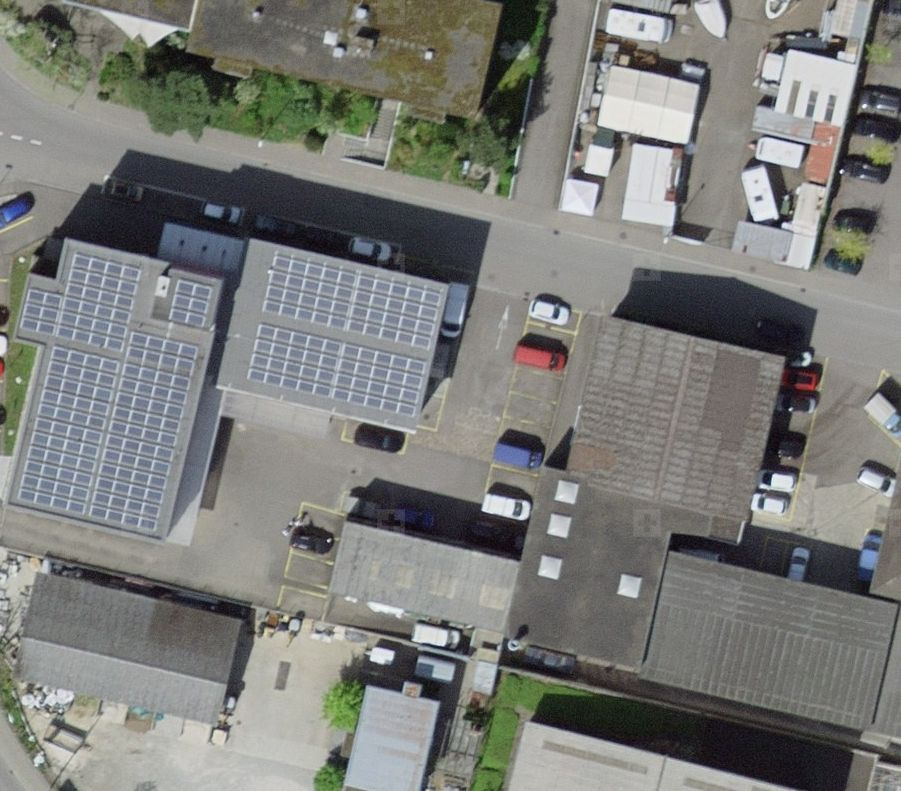solar: (21, 252, 216, 535), (242, 251, 443, 419)
